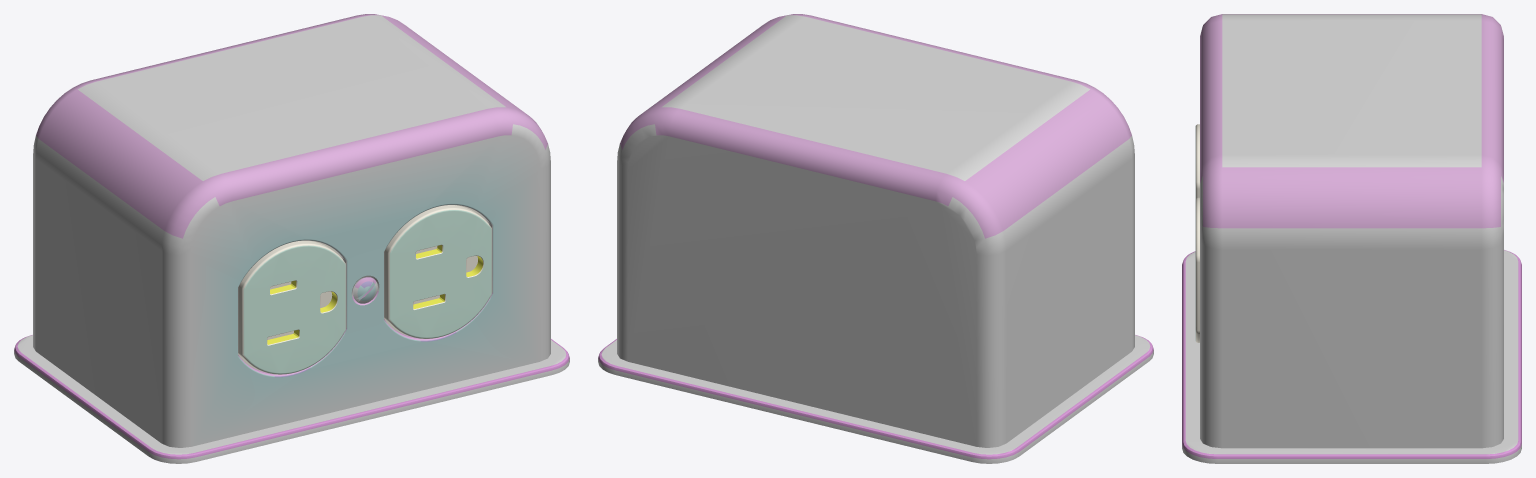
File: Kit_FloorBoxTombstone.fbx
3 renders of one model, left to right at view 1: azimuth 30°, elevation 25°; view 2: azimuth 150°, elevation 25°; view 3: azimuth 270°, elevation 25°, orthographic. The views are drawn at different scales.
Parts seen in each view (by area): view 1: Kit_FloorBoxTombstone_LOD0; view 2: Kit_FloorBoxTombstone_LOD0; view 3: Kit_FloorBoxTombstone_LOD0.
Part boxes in pixels (bbox=[...]): Kit_FloorBoxTombstone_LOD0: bbox=[14, 14, 569, 463]; Kit_FloorBoxTombstone_LOD0: bbox=[598, 14, 1153, 463]; Kit_FloorBoxTombstone_LOD0: bbox=[1182, 14, 1521, 463].
Size of what is drawn, in the model's own units: 0.111 by 0.067 by 0.076.
